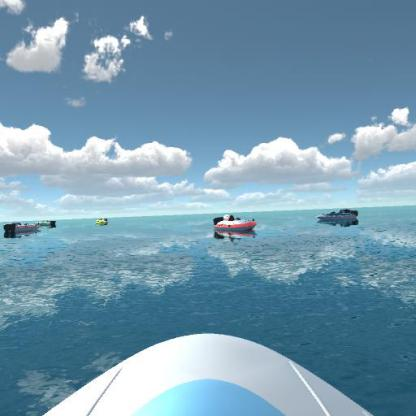usv0: (33, 217, 55, 228)
usv1: (312, 204, 362, 229)
usv2: (92, 214, 112, 228)
usv3: (209, 210, 258, 240), (2, 218, 40, 239)
